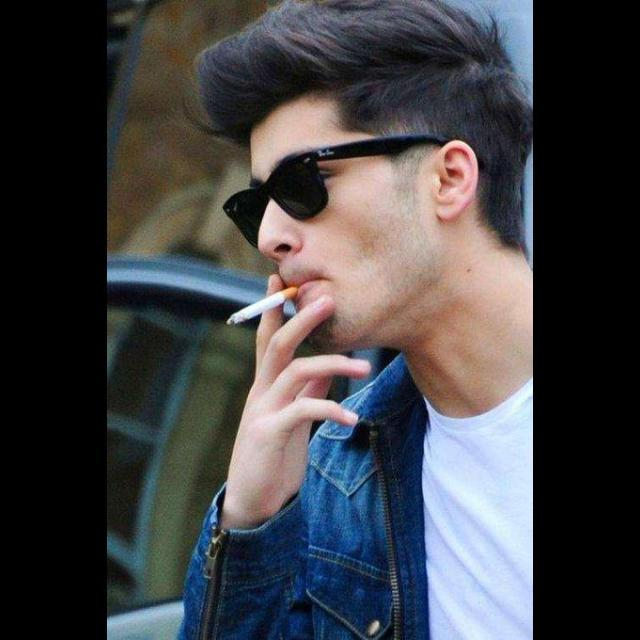rokok: (228, 285, 304, 327)
